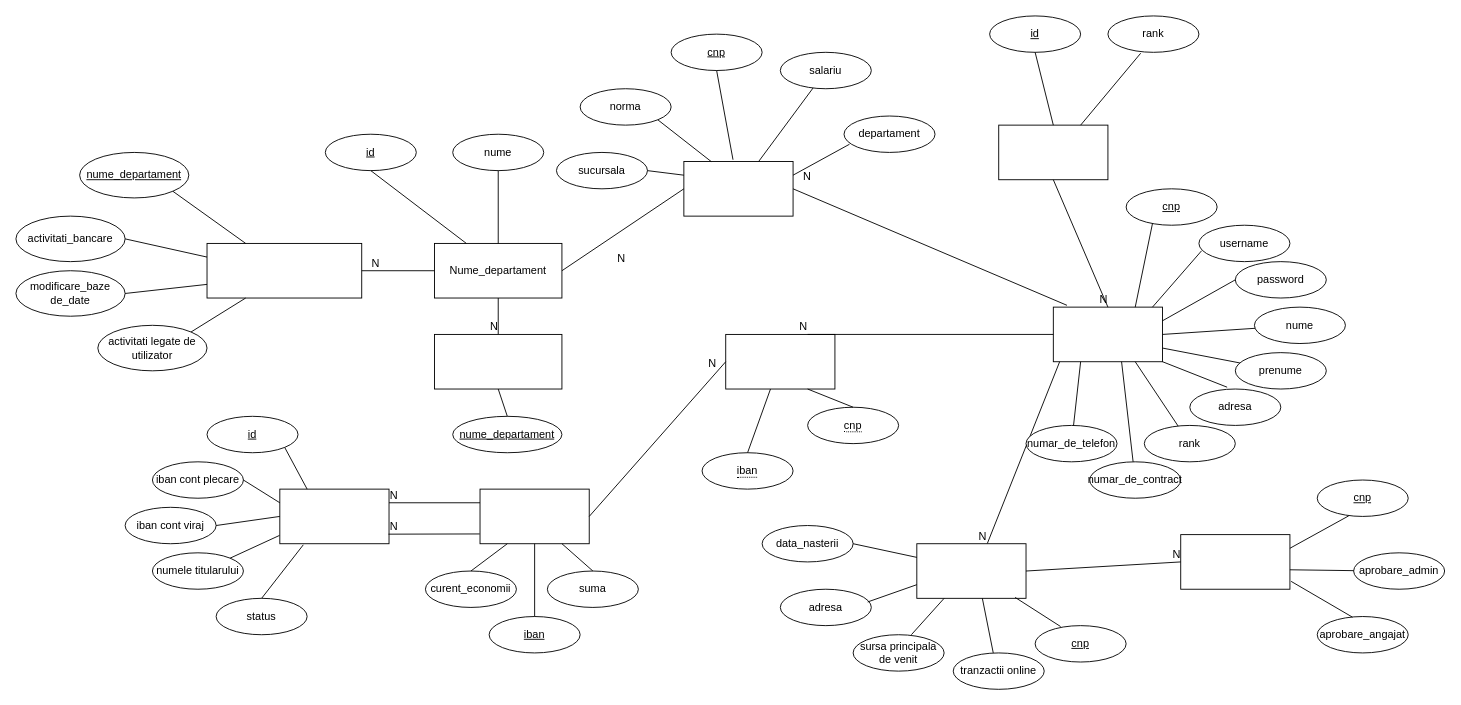
Image size: 1461x705. Some labels were removed from this diagram. The shapes that lost their labels are listed below. From the top down, each one's box as (x1, y1, x2, y2) in pixels, then its label:
(998, 124, 1108, 180): User_rank
(683, 161, 793, 216): Angajat
(206, 243, 362, 298): Permisiuni_departament
(1052, 306, 1163, 362): User
(434, 334, 562, 389): department
(725, 334, 835, 389): Relația client cont
(279, 488, 389, 544): Transferuri bancare
(479, 488, 589, 544): Cont bancar
(916, 543, 1026, 598): Clienti
(1180, 534, 1290, 589): Solicitari_card
